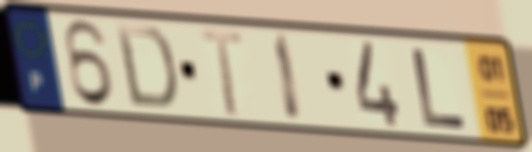4: (355, 39, 403, 130)
6: (61, 16, 117, 110)
D: (112, 21, 180, 113)
I: (271, 30, 306, 126)
L: (408, 45, 471, 132)
T: (196, 25, 247, 120)
